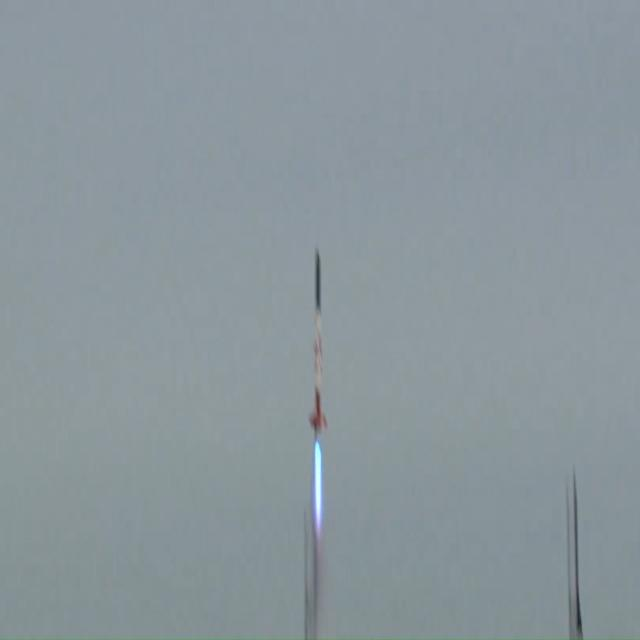Rocket: (308, 246, 329, 451)
